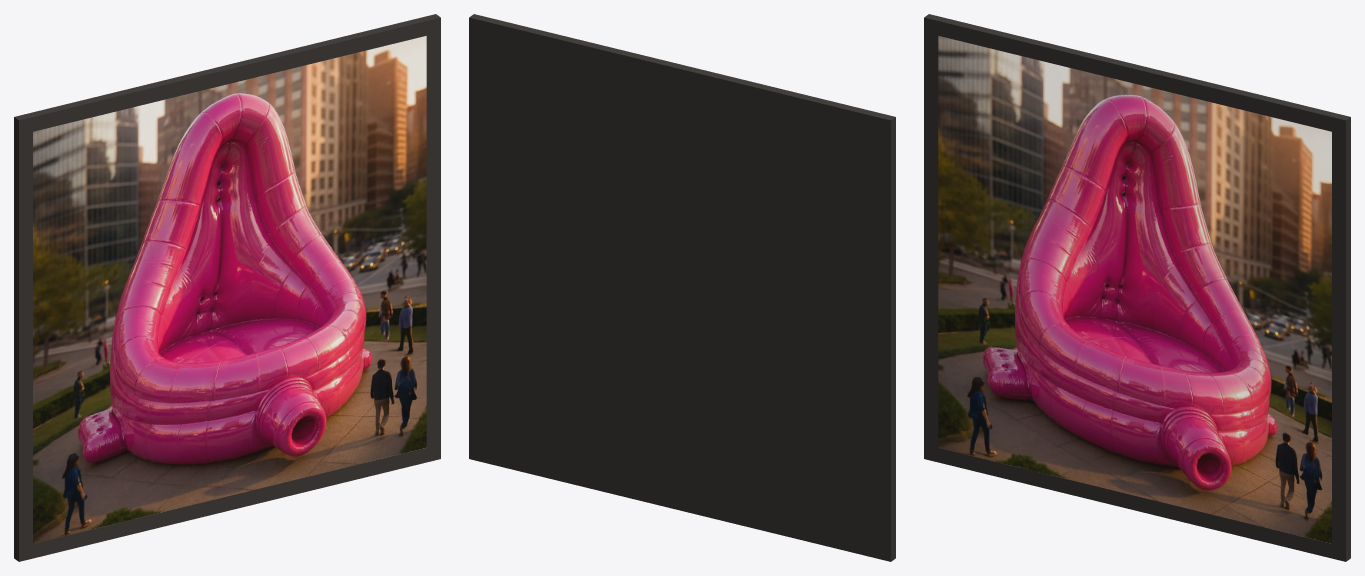
Rendered from picture_06_fountain_redux.glb.
The picture shows the model from 3 angles, left to right: view 1: azimuth 30°, elevation 25°; view 2: azimuth 150°, elevation 25°; view 3: azimuth 330°, elevation 25°; orthographic projection.
Visible parts, largest first — view 1: picture_06_fountain_redux_nocol; view 2: picture_06_fountain_redux_nocol; view 3: picture_06_fountain_redux_nocol.
Boxes of the visible parts, <box> form: picture_06_fountain_redux_nocol: <box>14,14,440,561</box>; picture_06_fountain_redux_nocol: <box>469,14,895,561</box>; picture_06_fountain_redux_nocol: <box>924,14,1350,561</box>.
Bounding box in the file's own units: 1.5 × 1.5 × 0.03.
2 materials, 1 textured.
